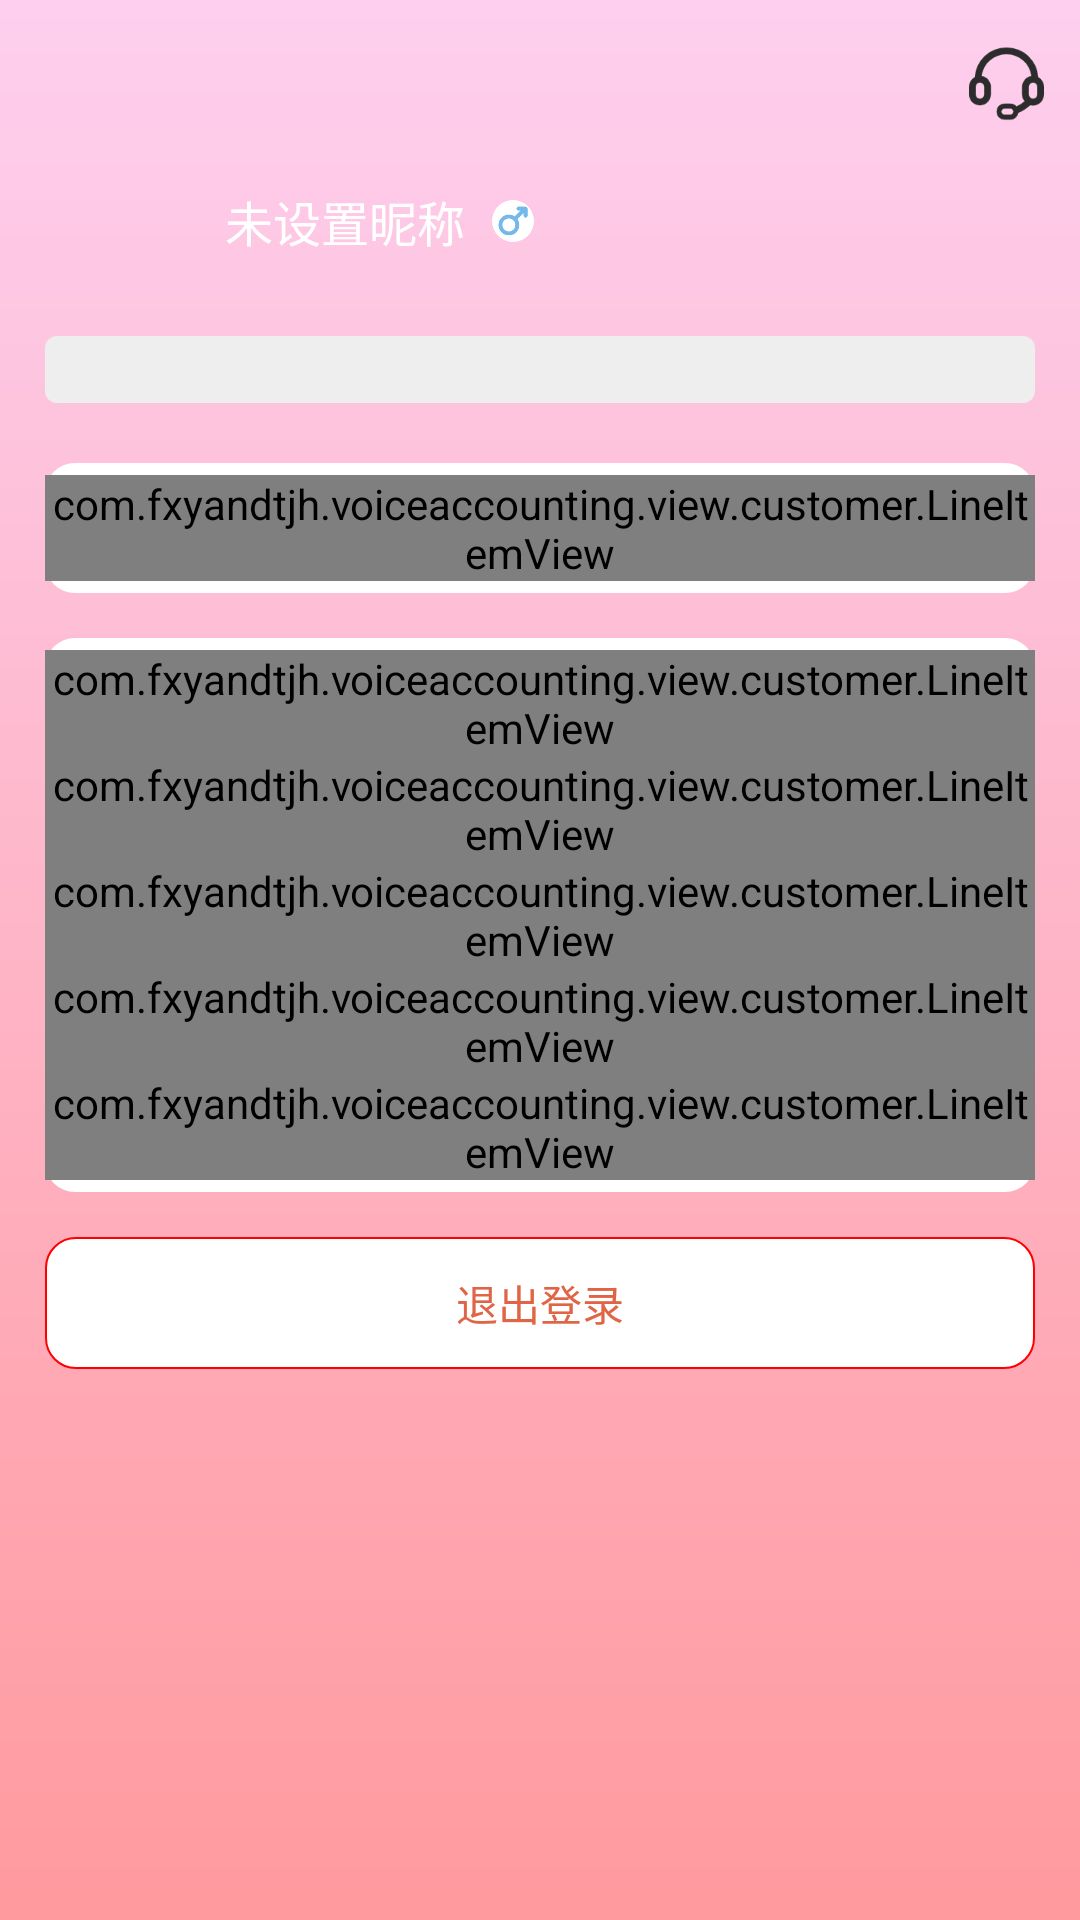

Where icons sit on this 1080x1920 app screen, as (x1, y1, x2, y2):
male: (492, 200, 534, 242)
